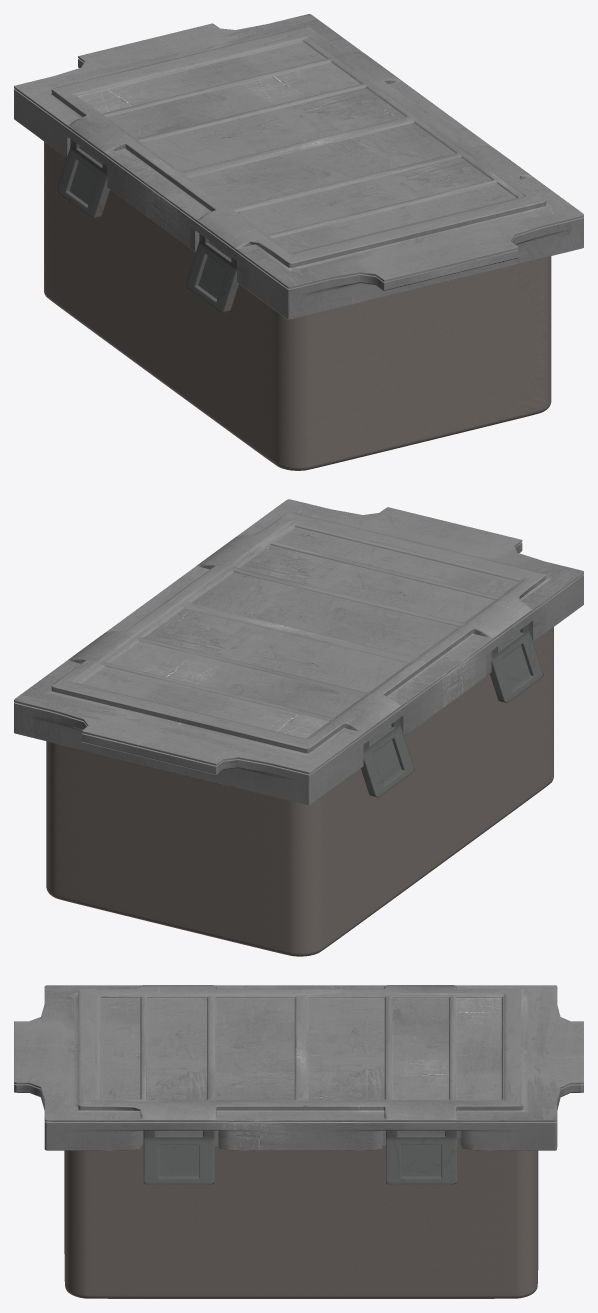
The model's file is loot_box.fbx.
3 views of the same model, one above another, from view 1: azimuth 30°, elevation 25°; view 2: azimuth 150°, elevation 25°; view 3: azimuth 270°, elevation 25° (orthographic). The views are drawn at different scales.
Parts seen in each view (by area): view 1: pCube2, pCube1, pCube5, pCube6; view 2: pCube2, pCube1, pCube5, pCube6; view 3: pCube2, pCube1, pCube4, pCube3.
Boxes of the visible parts, x1,y1,x2,y2 form: pCube2: (14,14,583,319); pCube1: (44,141,551,470); pCube5: (185,234,239,313); pCube6: (56,139,110,219); pCube2: (14,499,583,805); pCube1: (46,627,553,956); pCube5: (490,623,543,703); pCube6: (361,718,414,797); pCube2: (14,985,583,1150); pCube1: (64,1146,538,1298); pCube4: (143,1130,214,1184); pCube3: (386,1130,456,1184).
Bounding box in the file's own units: 6.39 × 3.91 × 10.53.
